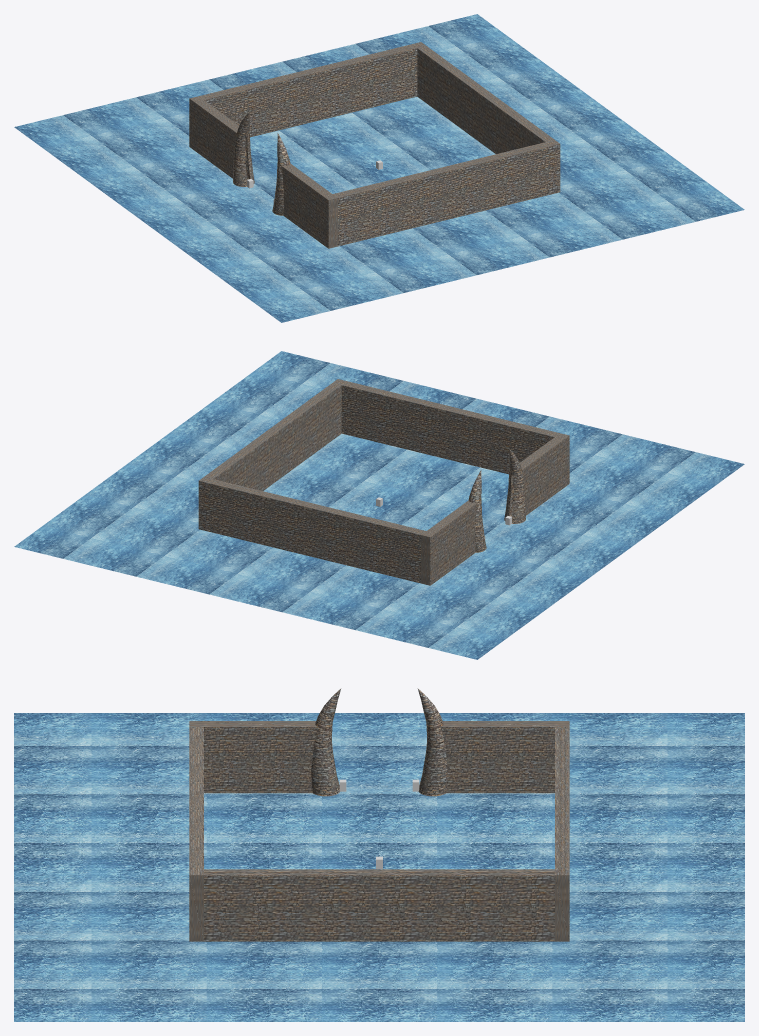
File: icecastle_hitbox.fbx
3 renders of one model, top to bottom at view 1: azimuth 30°, elevation 25°; view 2: azimuth 150°, elevation 25°; view 3: azimuth 270°, elevation 25°, orthographic. The views are drawn at different scales.
Parts seen in each view (by area): view 1: ground, swall, nwall, ewall, ewall2, wwall1, horns; view 2: ground, nwall, swall, ewall, wwall1, ewall2, horns; view 3: ground, ewall, ewall2, wwall1, horns, nwall, swall.
Boxes of the visible parts, box(x1,y1,x2,y2) form: ground: box(14, 14, 744, 322); swall: box(333, 140, 560, 246); nwall: box(199, 42, 425, 137); ewall: box(417, 46, 554, 153); ewall2: box(281, 163, 337, 248); wwall1: box(189, 96, 238, 178); horns: box(233, 112, 290, 215); ground: box(14, 351, 744, 659); nwall: box(198, 477, 425, 583); swall: box(333, 379, 559, 474); ewall: box(204, 383, 341, 490); wwall1: box(421, 500, 477, 585); ewall2: box(520, 433, 569, 515); horns: box(468, 449, 525, 552); ground: box(14, 713, 744, 1021); ewall: box(204, 869, 554, 941); ewall2: box(189, 721, 318, 793); wwall1: box(440, 721, 569, 793); horns: box(311, 688, 447, 796); nwall: box(555, 727, 569, 941); swall: box(189, 727, 203, 941).
Size of the model in its own units: 100 by 19.07 by 100.
